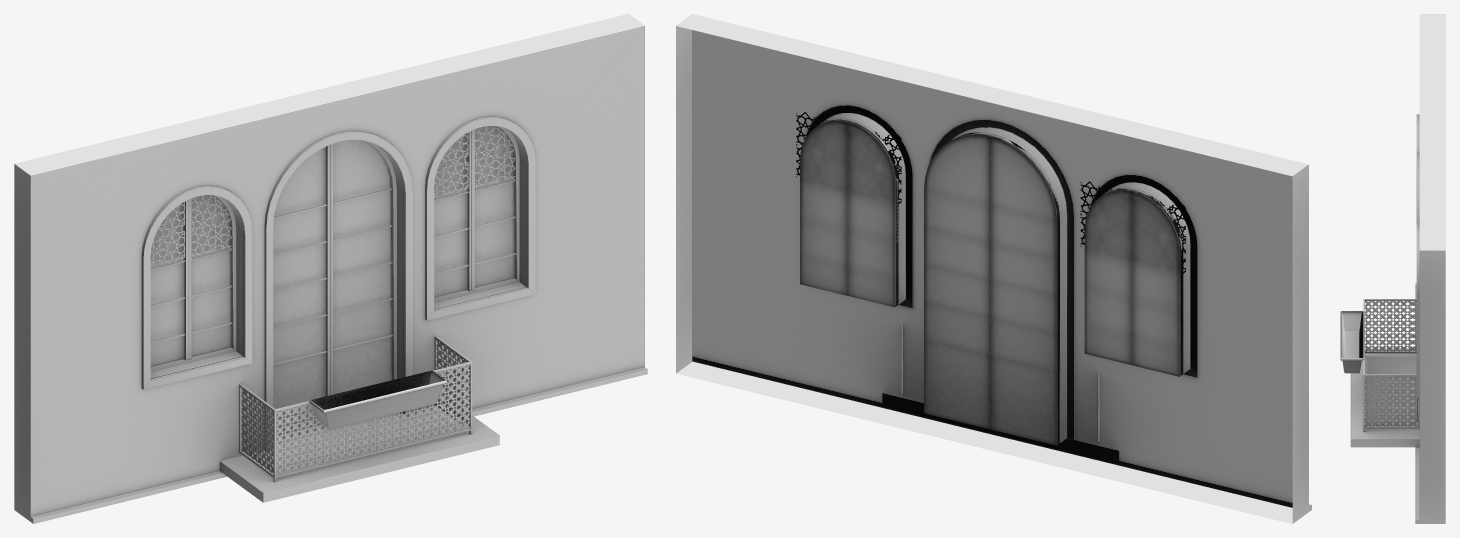
The model's file is floorsecond_2.glb.
The picture shows the model from 3 angles, left to right: view 1: azimuth 30°, elevation 25°; view 2: azimuth 150°, elevation 25°; view 3: azimuth 270°, elevation 25°; orthographic projection. The views are drawn at different scales.
Parts seen in each view (by area): view 1: floorsecond_2; view 2: floorsecond_2; view 3: floorsecond_2.
Part boxes in pixels (x1=…): floorsecond_2: x1=14, y1=14, x2=647, y2=523; floorsecond_2: x1=676, y1=14, x2=1311, y2=523; floorsecond_2: x1=1340, y1=14, x2=1445, y2=523.
Size of the model in its own units: 6.5 by 3.5 by 1.22.
1 material, 1 textured.
